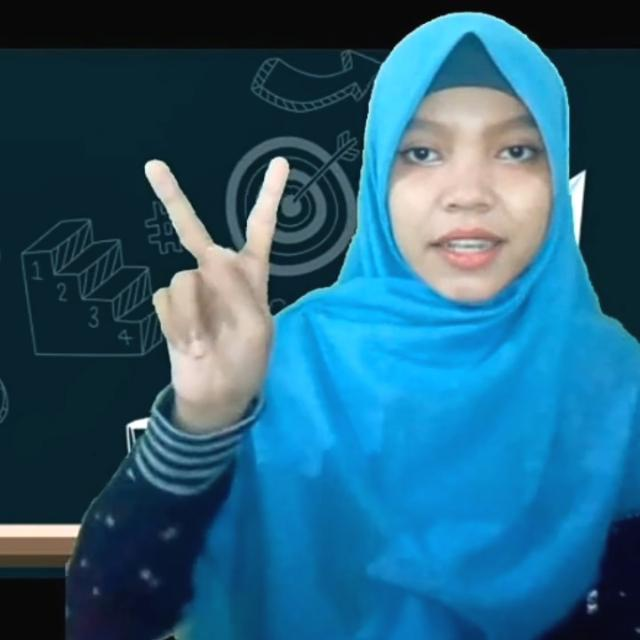K: (142, 152, 292, 408)
